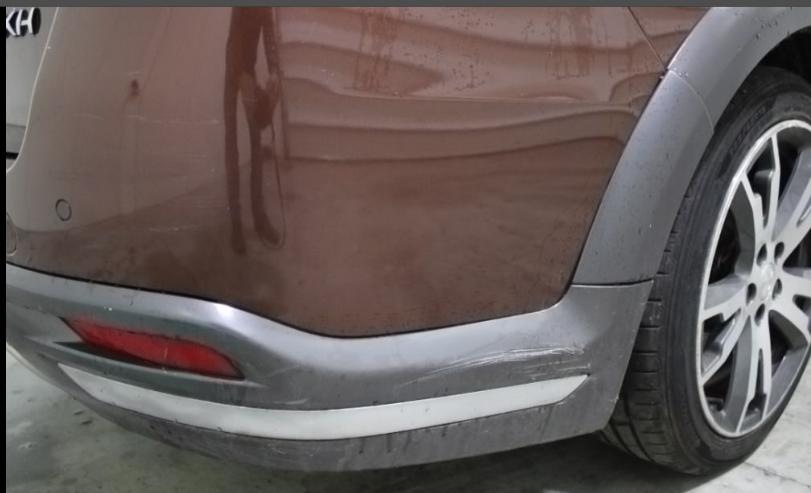Back-bumper: (0, 2, 716, 472)
Back-wheel: (589, 62, 810, 478)
Rocker-panel: (625, 0, 810, 129)
Trunk: (4, 6, 60, 158)
